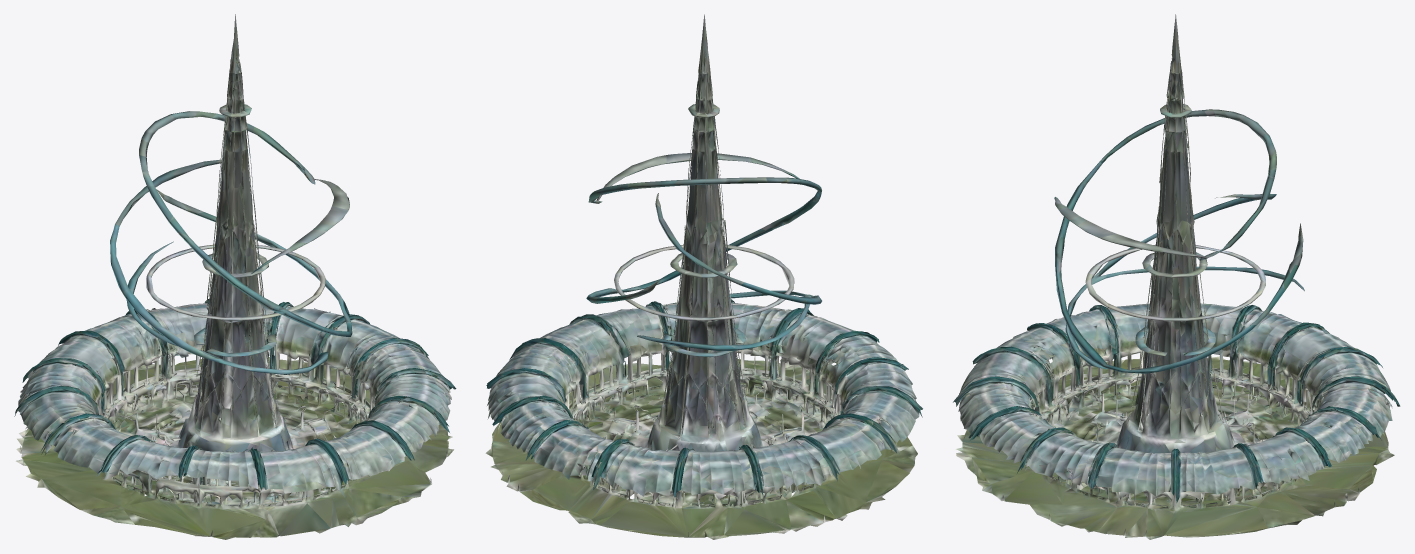
3 renders of one model, left to right at view 1: azimuth 30°, elevation 25°; view 2: azimuth 150°, elevation 25°; view 3: azimuth 270°, elevation 25°, orthographic.
Visible parts, largest first — view 1: object 1, ring0, ring1, ring2; view 2: object 1, ring0, ring1, ring2; view 3: object 1, ring0, ring1, ring2.
Boxes of the visible parts, <box> form: object 1: <box>14,14,456,539</box>; ring0: <box>139,111,352,336</box>; ring1: <box>110,159,328,374</box>; ring2: <box>146,244,325,320</box>; object 1: <box>485,14,922,539</box>; ring0: <box>586,153,821,303</box>; ring1: <box>637,193,821,350</box>; ring2: <box>614,244,794,320</box>; object 1: <box>953,14,1400,539</box>; ring0: <box>1054,109,1303,373</box>; ring1: <box>1065,194,1304,369</box>; ring2: <box>1085,245,1265,321</box>.
Size of the model in its own units: 1.74 by 1.85 by 1.74.
1 material, 1 textured.
